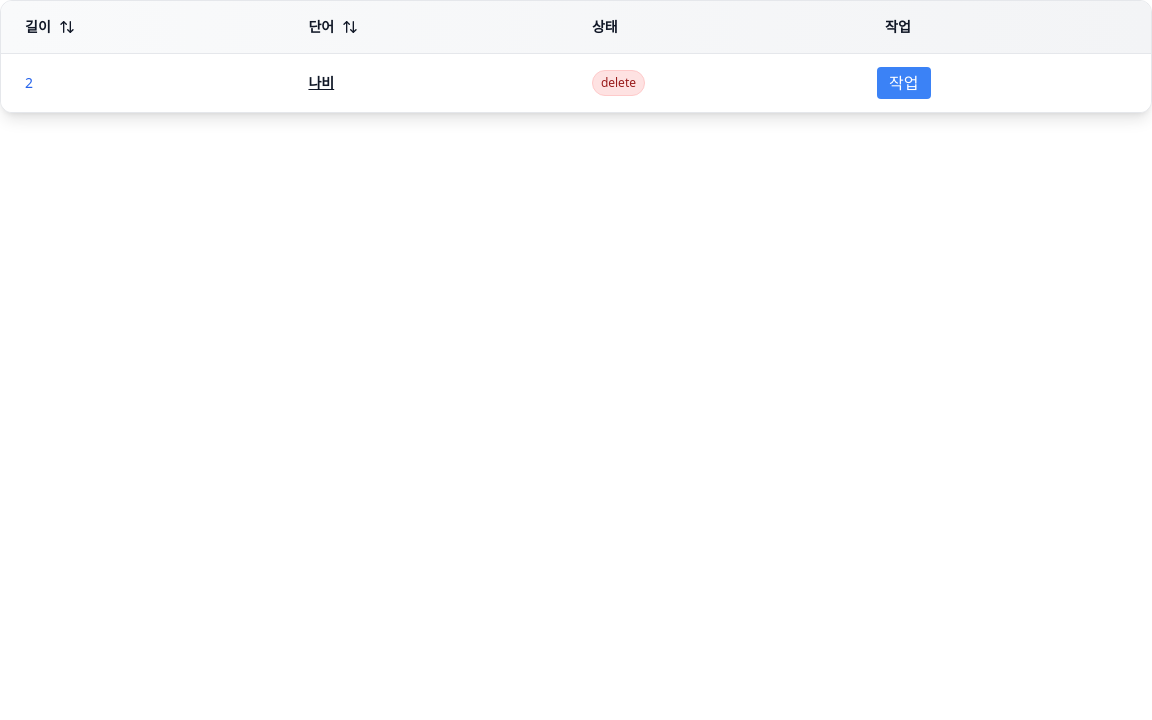
Test: Table administrator and legacy user actions › theme-change requester에게 wait_words 취소 action을 표시하지 않는다
Click the button "작업" at (904, 83), box [877,67,930,99]
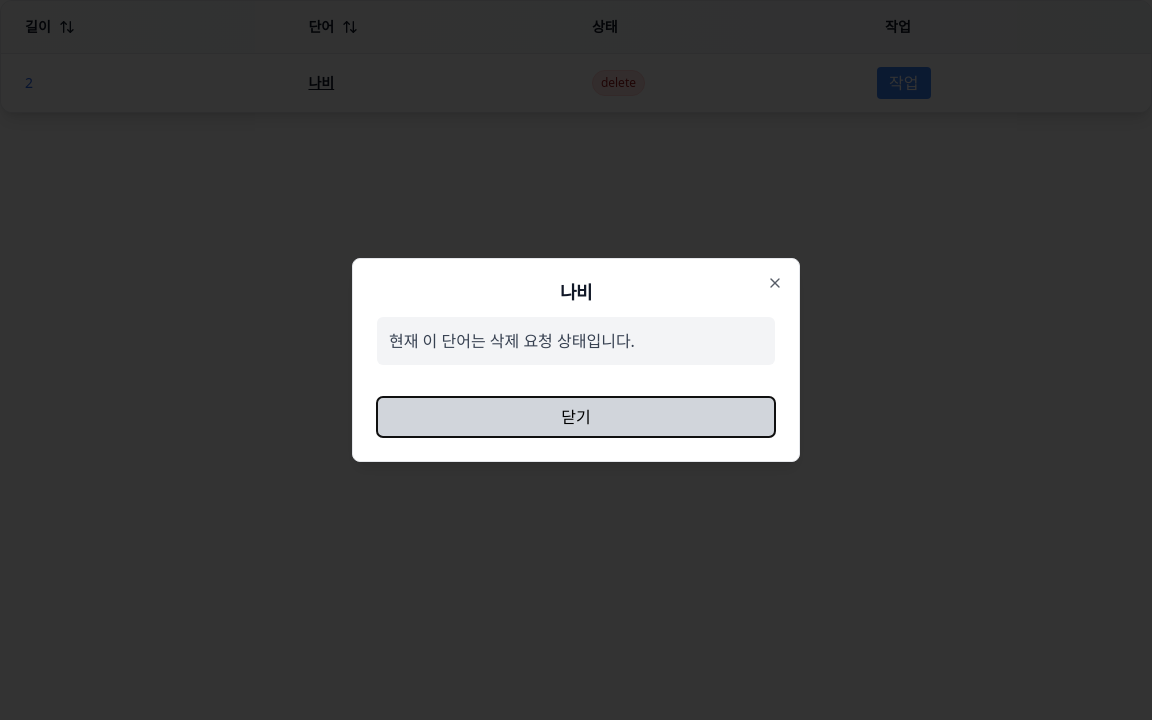
Check: the text "현재 이 단어는 삭제 요청 상태입니다." is shown, box [389,329,635,353]
Check: the button "닫기" is enabled, box [377,397,775,437]
